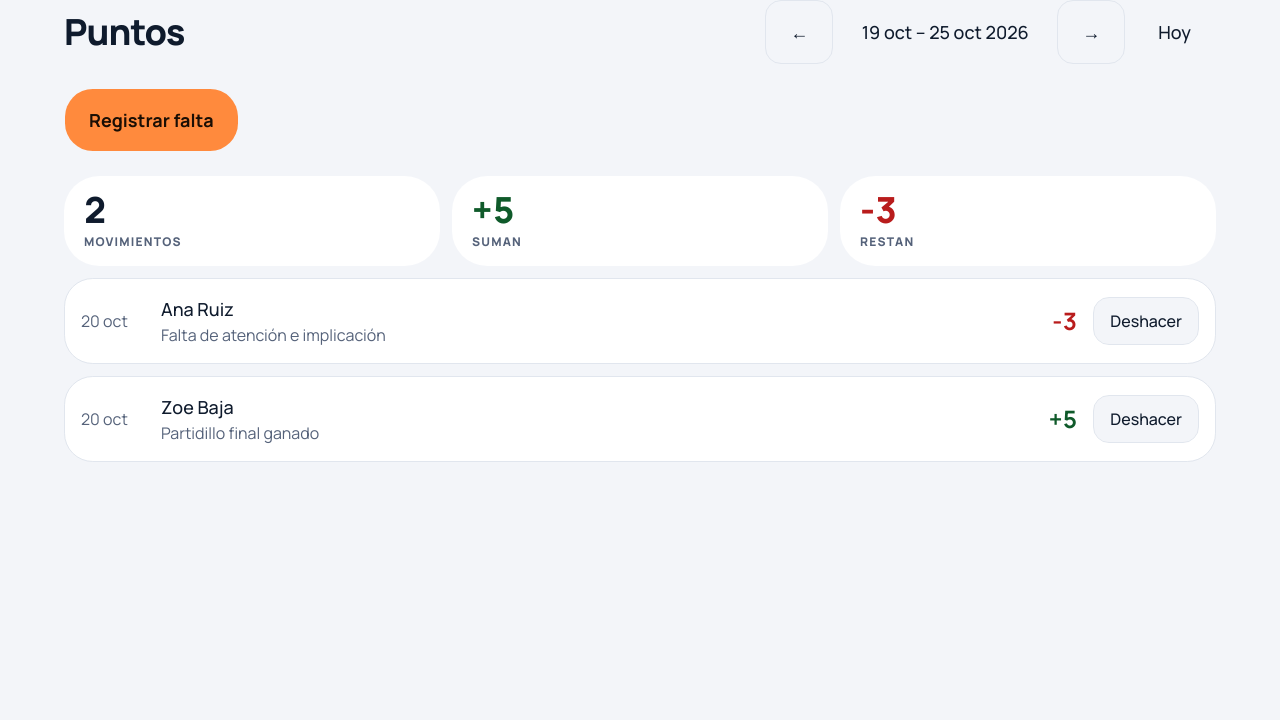
PuntosPage › registra una falta con la fecha de hoy y recarga la lista
Expected: the text "Ana Ruiz" is shown, [161,297,234,321]
Step 1. Click the button "Registrar falta" → coordinates (151, 120), box [64,88,239,152]
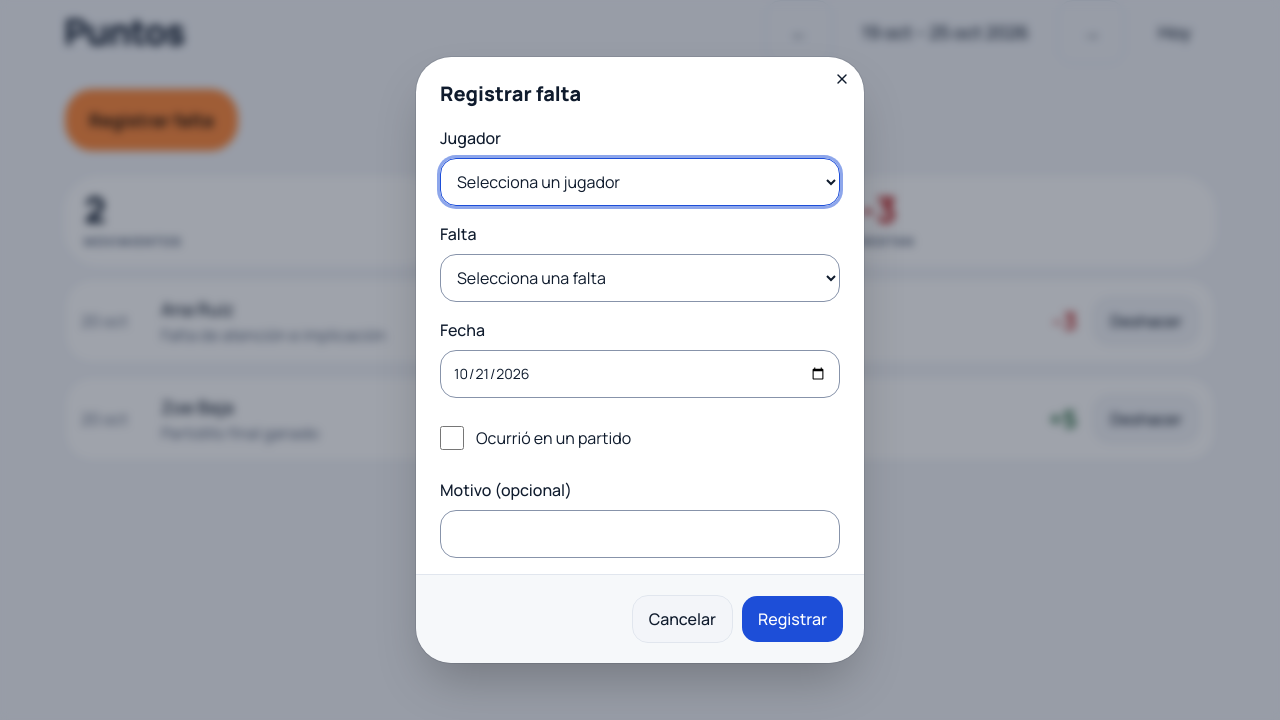
Step 2. Select "9 · Ana Ruiz" in the dropdown labelled "Jugador" → coordinates (640, 182), box [440,158,840,206]
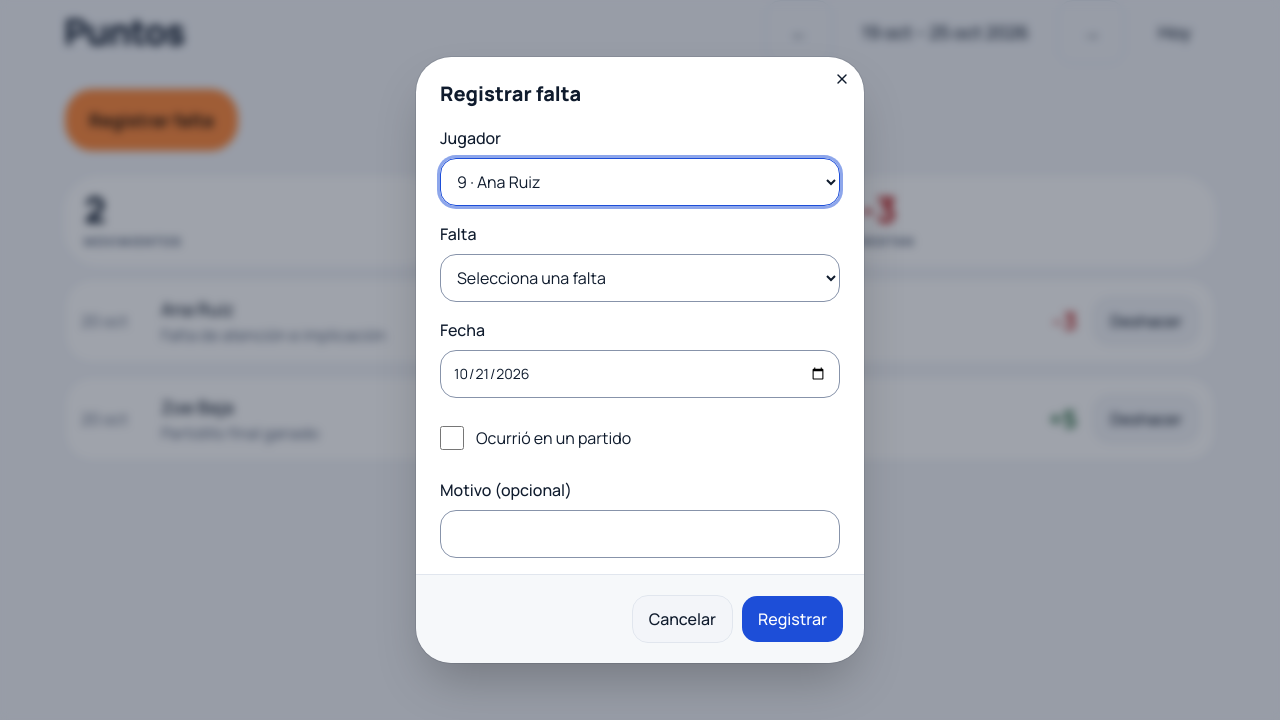
Step 3. Select "L-a · Falta de atención e implicación (-3)" in the dropdown labelled "Falta" → coordinates (640, 278), box [440,254,840,302]
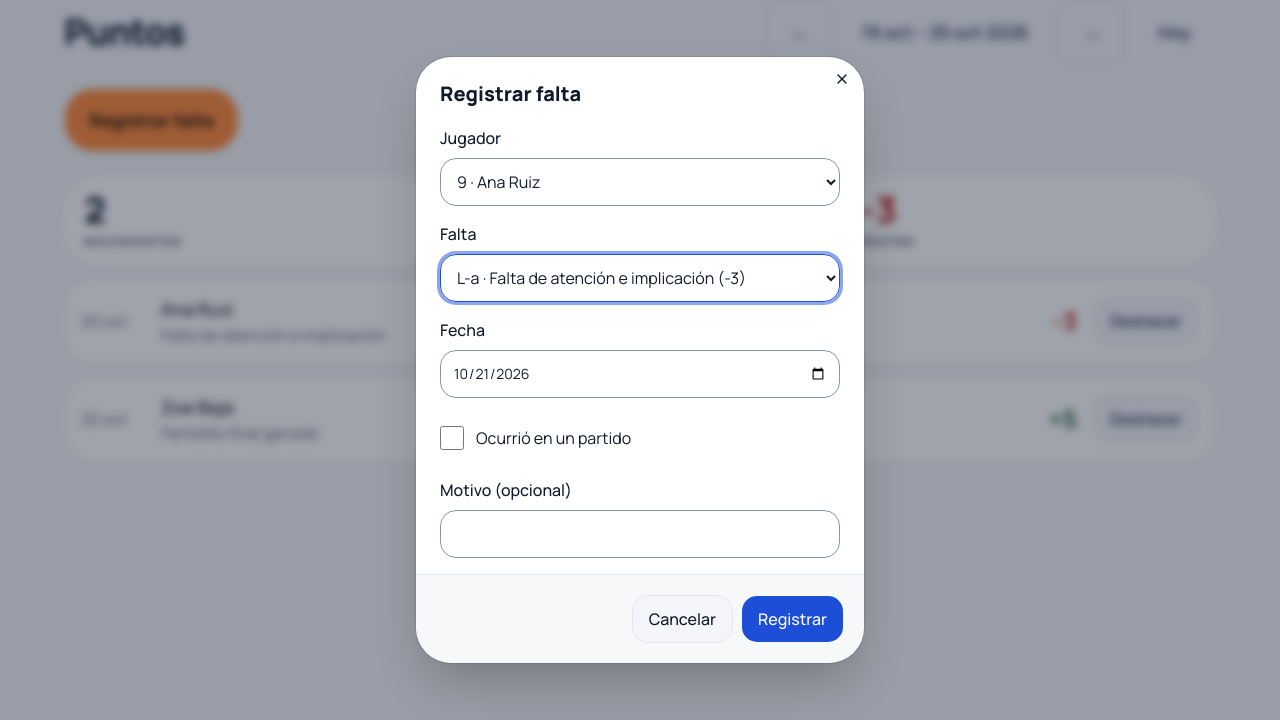
Step 4. Click the button "Registrar" → coordinates (792, 619), box [741,595,844,643]
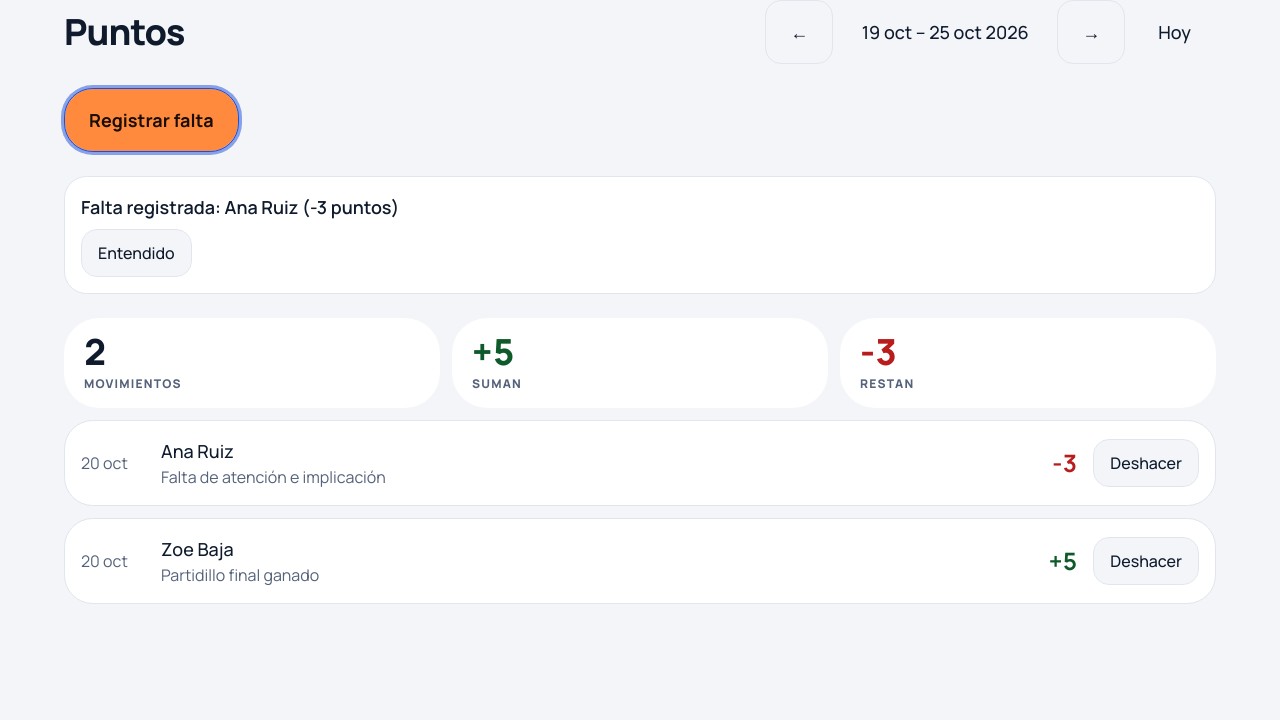
Result: the dialog is gone
Result: the message shows "Falta registrada" at [81,195,224,219]
